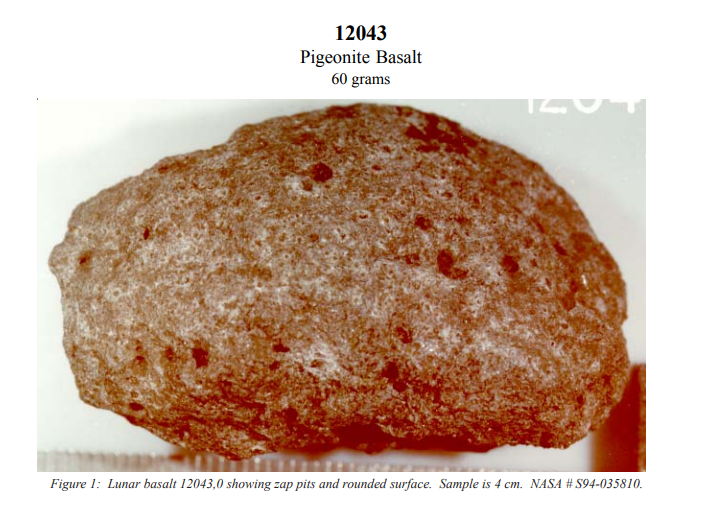Basalt: (41, 96, 651, 465)
